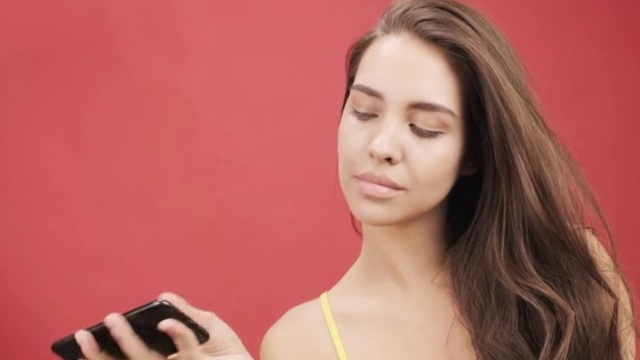phone: (41, 279, 217, 360)
